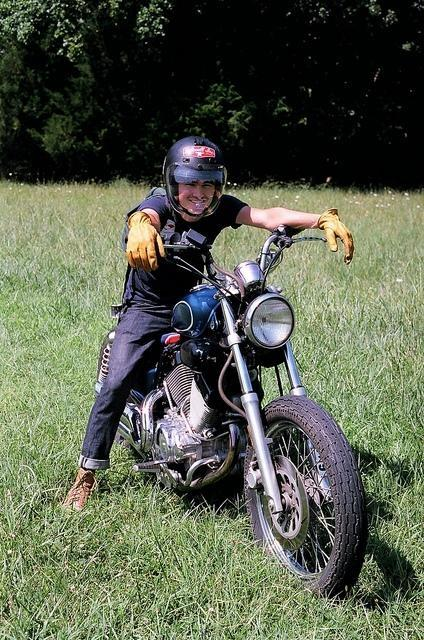motorcycle: (95, 222, 367, 602)
